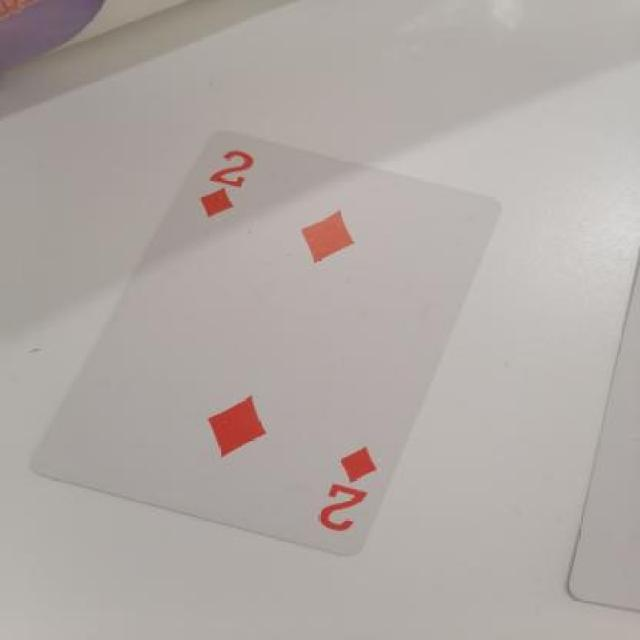2D: (308, 433, 387, 541), (184, 145, 278, 224)
